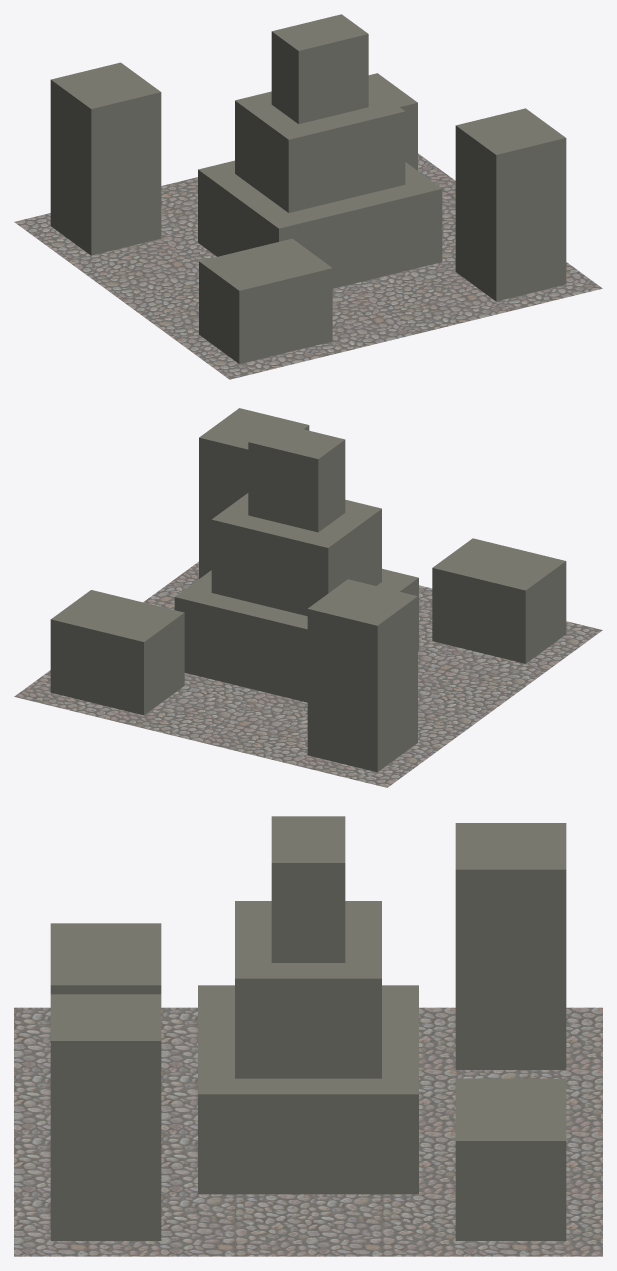
Rendered from Tile1.fbx.
3 renders of one model, top to bottom at view 1: azimuth 30°, elevation 25°; view 2: azimuth 150°, elevation 25°; view 3: azimuth 270°, elevation 25°, orthographic. The views are drawn at different scales.
Visible parts, largest first — view 1: Tile1; view 2: Tile1; view 3: Tile1.
Part boxes in pixels (<box>): Tile1: <box>14,14,602,379</box>; Tile1: <box>14,408,602,787</box>; Tile1: <box>14,816,602,1256</box>.
Size of the model in its own units: 1600 by 900 by 1600.
